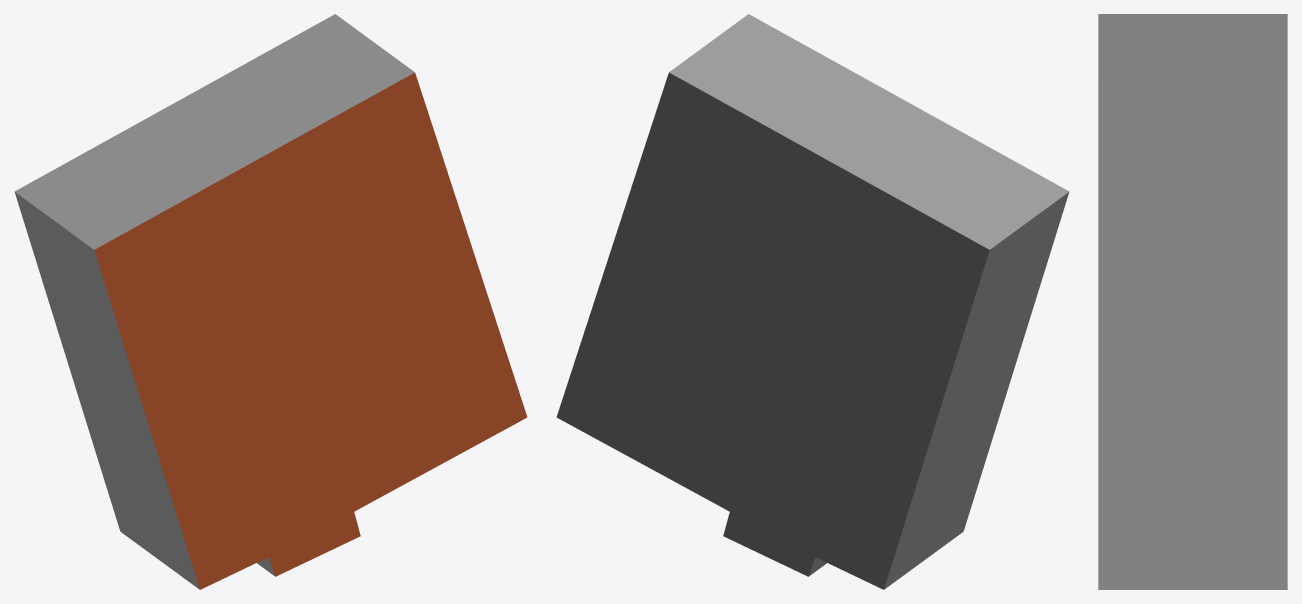
File: construction_1478_assumed_A_Casa_h6m.obj
3 views of the same model, side by side, from view 1: azimuth 30°, elevation 25°; view 2: azimuth 150°, elevation 25°; view 3: azimuth 270°, elevation 25° (orthographic). The views are drawn at different scales.
Visible parts, largest first — view 1: construction_1478_assumed_A_Casa; view 2: construction_1478_assumed_A_Casa; view 3: construction_1478_assumed_A_Casa.
Part boxes in pixels (x1=…): construction_1478_assumed_A_Casa: x1=14, y1=14, x2=527, y2=589; construction_1478_assumed_A_Casa: x1=556, y1=14, x2=1069, y2=589; construction_1478_assumed_A_Casa: x1=1098, y1=14, x2=1287, y2=589.
Size of the model in its own units: 18.82 by 19.52 by 6.
